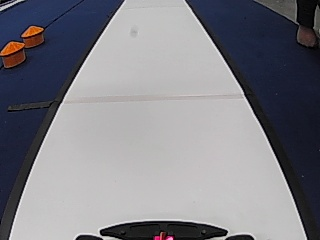granary: (0, 40, 27, 70), (19, 24, 45, 48)
